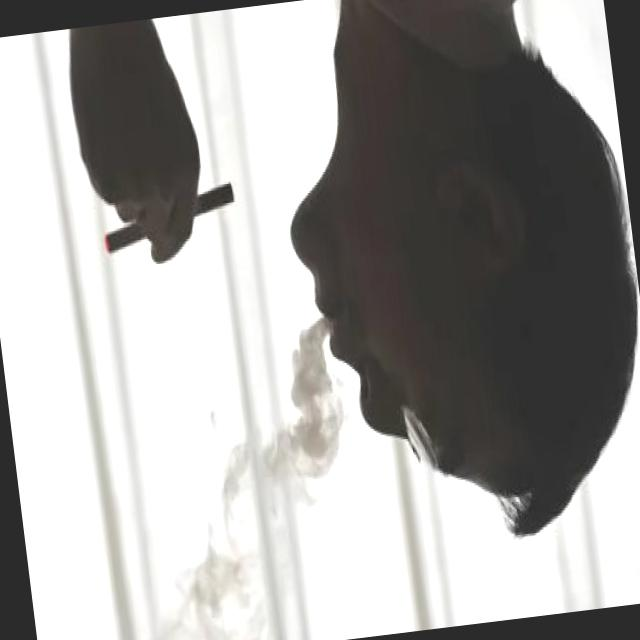cigarette: (94, 171, 240, 258)
